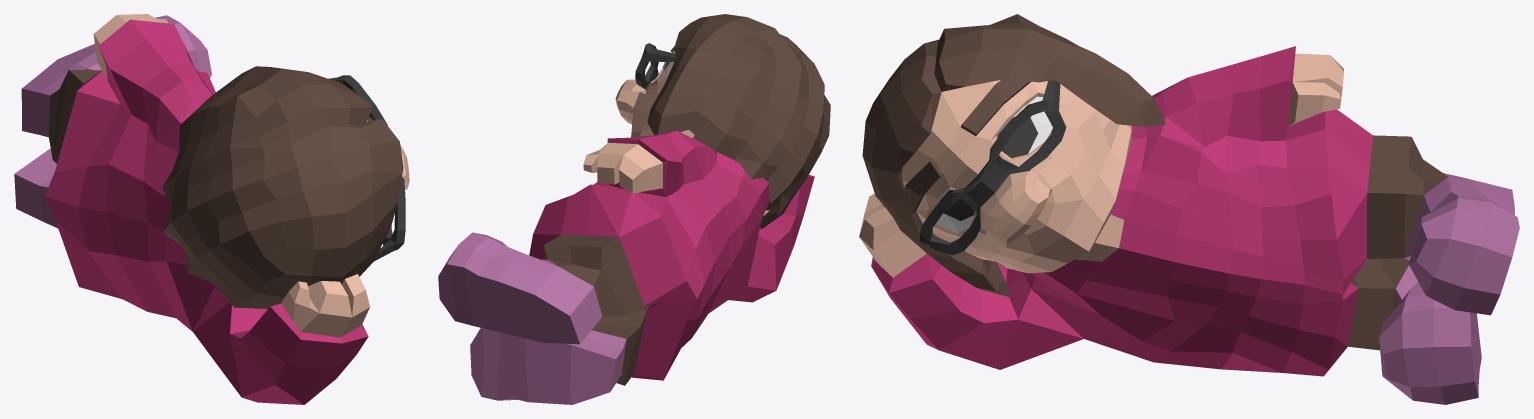
File: Gnome_Garden_Sexy_Tom.fbx
3 renders of one model, left to right at view 1: azimuth 30°, elevation 25°; view 2: azimuth 150°, elevation 25°; view 3: azimuth 270°, elevation 25°, orthographic. The views are drawn at different scales.
Visible parts, largest first — view 1: Tom_Gnome.001; view 2: Tom_Gnome.001; view 3: Tom_Gnome.001.
Part boxes in pixels (box(x1,y1,x2,y2)): Tom_Gnome.001: box(14, 14, 409, 404); Tom_Gnome.001: box(438, 14, 830, 404); Tom_Gnome.001: box(859, 14, 1519, 404).
Bounding box in the file's own units: 64.69 × 87.32 × 149.
